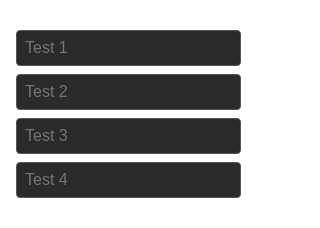
Test: InputGroup.vue › Validation › shows error for text exceeding max length
The image size is (320, 228).
Type "Very long text" into the field with placeholder "Test 1". click: (128, 48)
box: [16, 30, 241, 66]
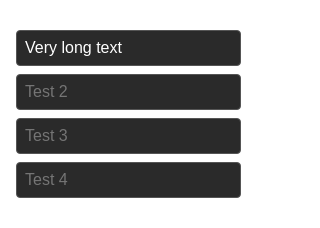
Leave the 1st field, box [16, 30, 241, 66]
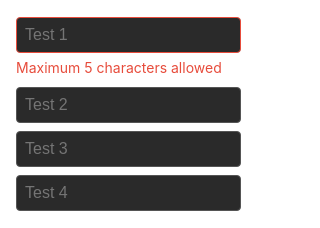
Expected: the text with class "error-message" reads "Maximum 5 characters allowed", [16, 59, 222, 76]
